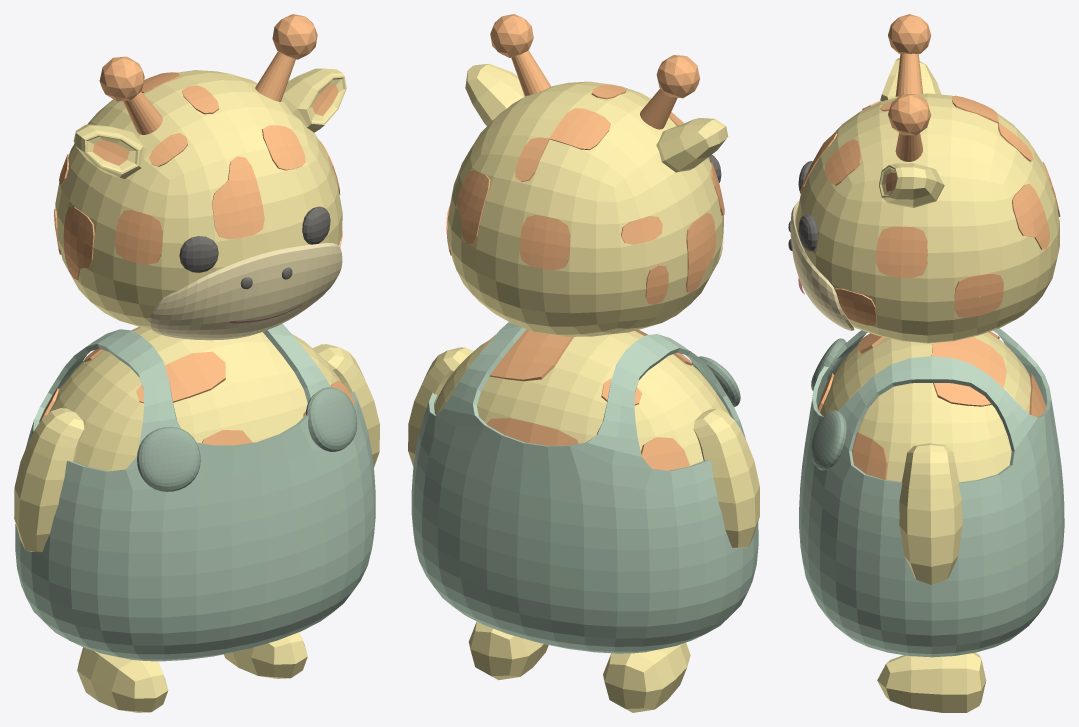
The model's file is giraffe.fbx.
The picture shows the model from 3 angles, left to right: view 1: azimuth 30°, elevation 25°; view 2: azimuth 150°, elevation 25°; view 3: azimuth 270°, elevation 25°; orthographic projection. The views are drawn at different scales.
Visible parts, largest first — view 1: Cube.006, Cube.008, Cube.009; view 2: Cube.006, Cube.008; view 3: Cube.006, Cube.008, Cube.009.
Part boxes in pixels (x1=…): Cube.006: x1=14, y1=323, x2=379, y2=712; Cube.008: x1=54, y1=14, x2=346, y2=340; Cube.009: x1=179, y1=206, x2=330, y2=272; Cube.006: x1=408, y1=322, x2=759, y2=712; Cube.008: x1=446, y1=14, x2=728, y2=336; Cube.006: x1=799, y1=328, x2=1064, y2=712; Cube.008: x1=788, y1=14, x2=1060, y2=343; Cube.009: x1=798, y1=161, x2=817, y2=251.
Size of the model in its own units: 1000 by 1779 by 714.
